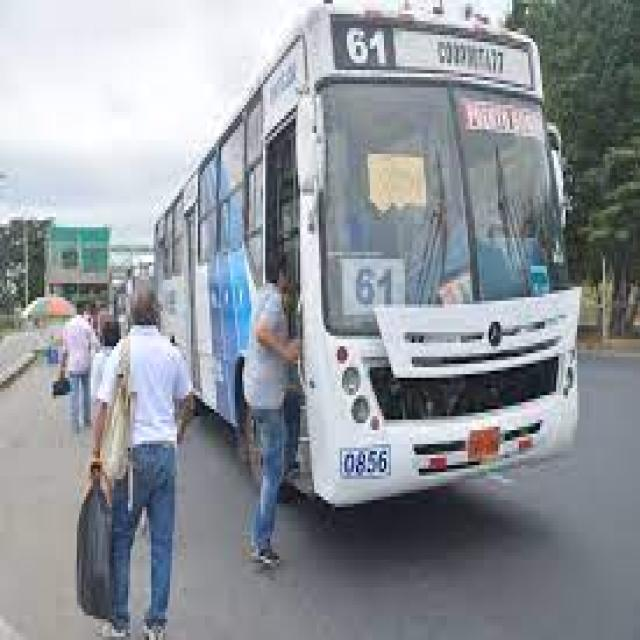BUS: (157, 0, 576, 517)
